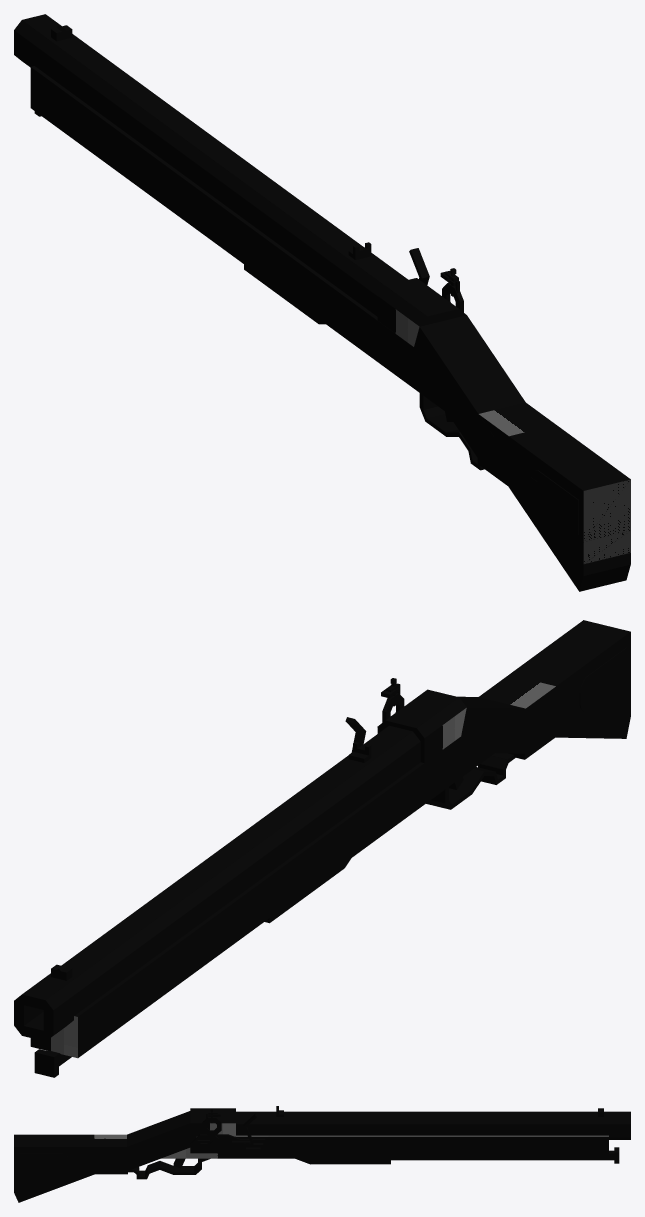
File: mteg_baker_rifle.glb
The picture shows the model from 3 angles, top to bottom: view 1: azimuth 30°, elevation 25°; view 2: azimuth 150°, elevation 25°; view 3: azimuth 270°, elevation 25°; orthographic projection. The views are drawn at different scales.
Visible parts, largest first — view 1: Gun; view 2: Gun; view 3: Gun.
Boxes of the visible parts, <box> form: Gun: <box>14,14,630,591</box>; Gun: <box>14,620,630,1077</box>; Gun: <box>14,1106,630,1202</box>.
Size of the model in its own units: 0.0972 by 0.2693 by 1.57.
Materials: 1 (1 with a texture image).
